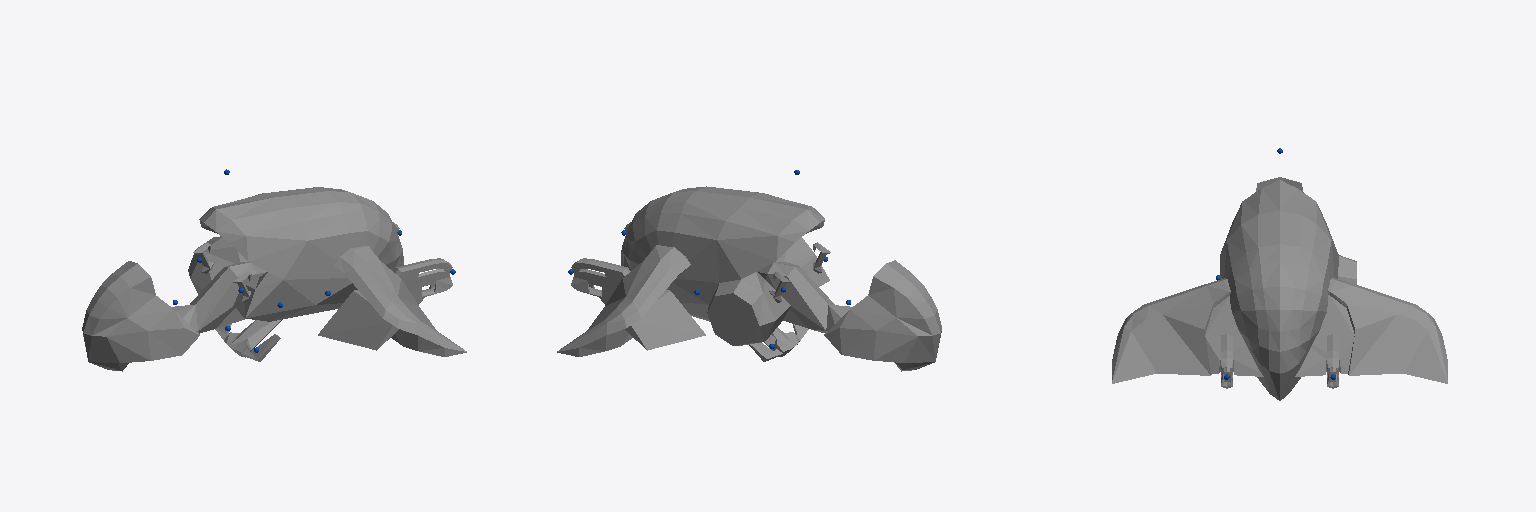
The model's file is Ghost.obj.
The picture shows the model from 3 angles: view 1: azimuth 30°, elevation 25°; view 2: azimuth 150°, elevation 25°; view 3: azimuth 270°, elevation 25°; orthographic projection.
Visible parts, largest first — view 1: __unnamed; view 2: __unnamed; view 3: __unnamed.
Boxes of the visible parts, box(x1,y1,x2,y2) form: __unnamed: box(82, 187, 466, 371); __unnamed: box(557, 186, 941, 371); __unnamed: box(1112, 177, 1447, 400).
Bounding box in the file's own units: 140 × 72.28 × 118.